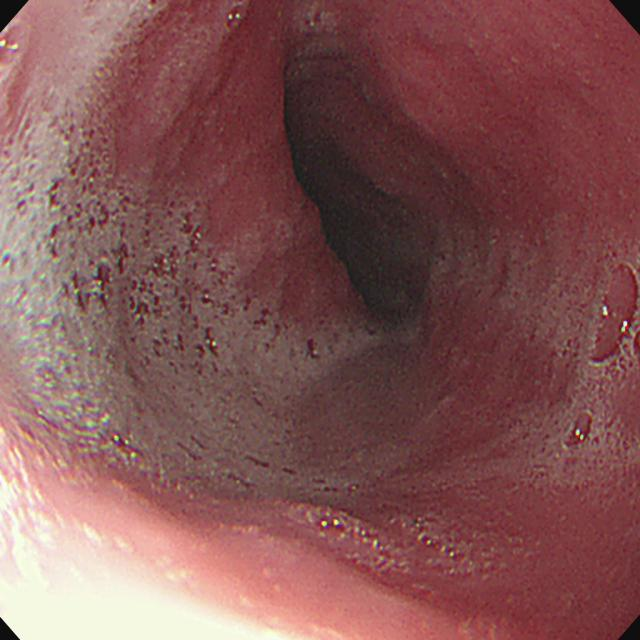E: (304, 166, 427, 325)
T: (2, 156, 279, 495), (442, 218, 640, 483), (2, 2, 167, 156), (308, 503, 513, 579), (280, 328, 417, 392)
